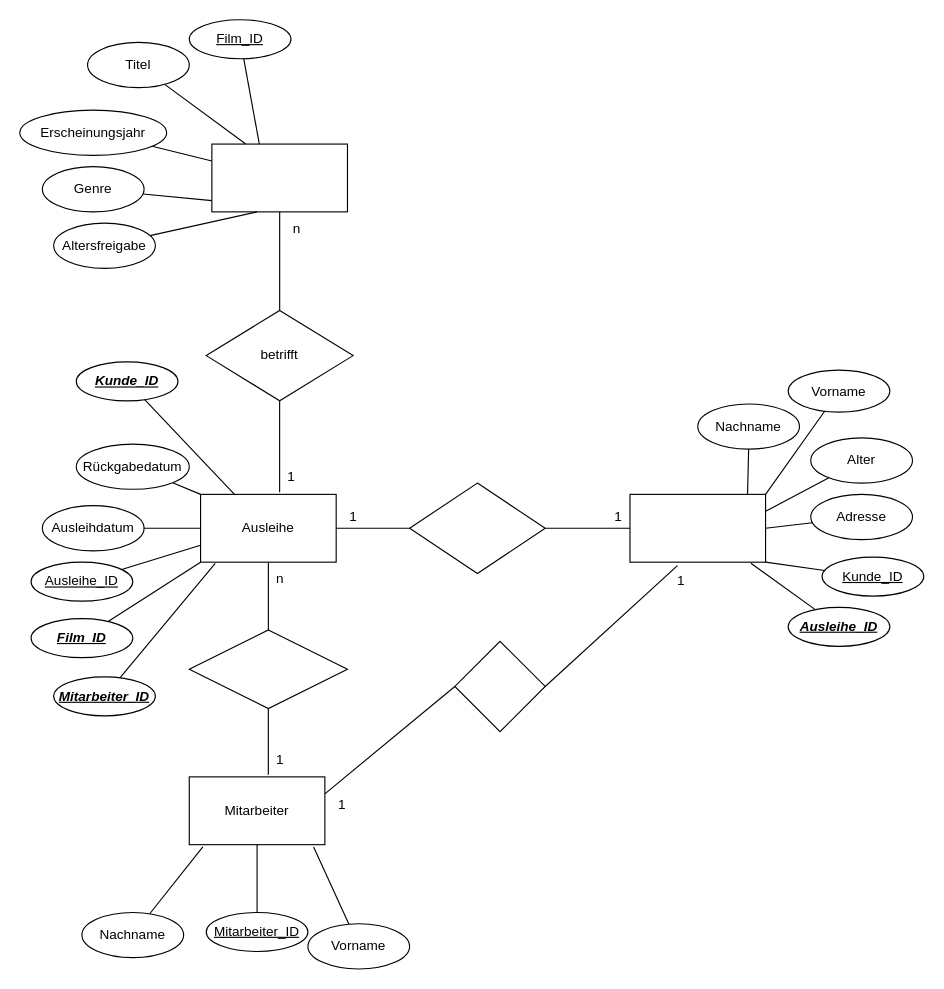
This 944x989 diagram has some shape labels left out. Here are the shapes that lost their labels. From the top down, the box of each, then its label:
(211, 143, 347, 212): Film
(408, 482, 545, 573): tätigt
(629, 493, 766, 562): Kunde
(188, 629, 347, 709): bearbeitet
(454, 640, 545, 732): berät
